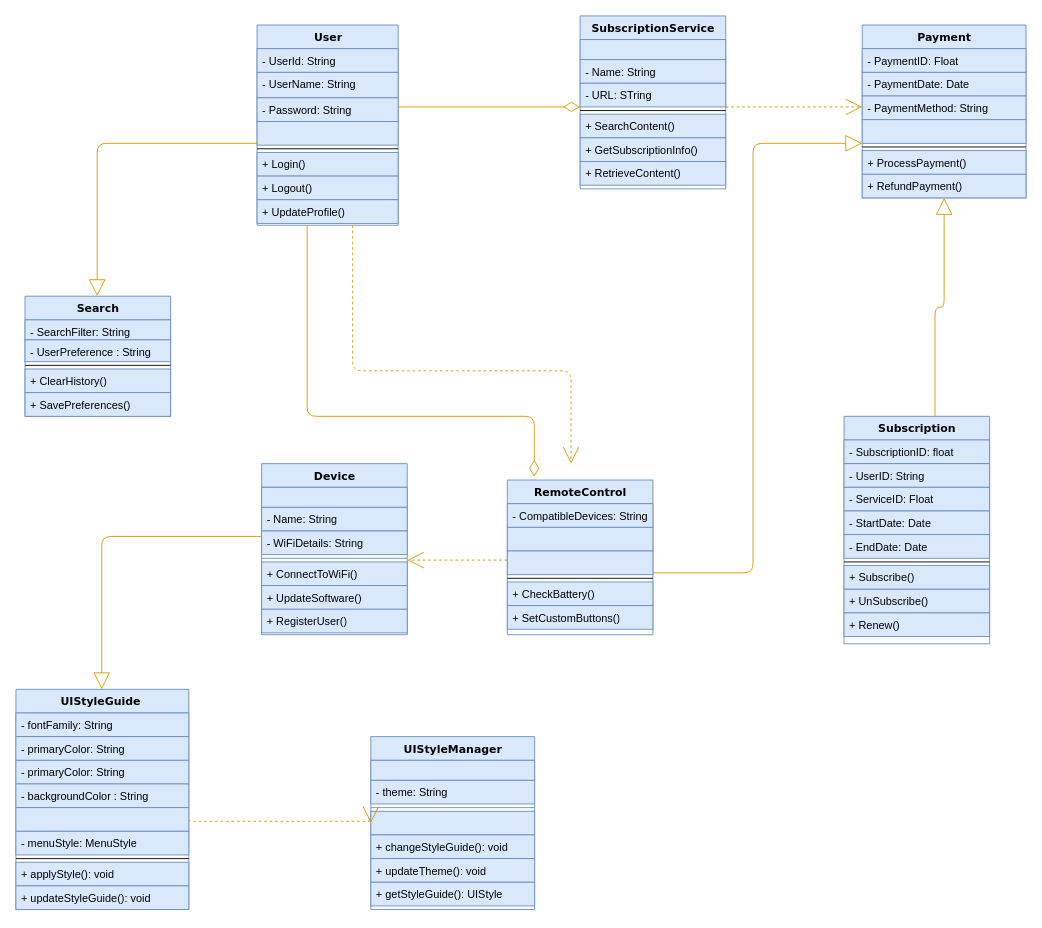
Image size: 1042x928. Some labels were removed from this diagram. Each missing label, with the centre of its shape:
"+ applyCurrentStyle(): void" goes at point (452, 822).
"- BatteryLevel: String" goes at point (579, 538).
"- buttonStyle : ButtonStyle" goes at point (102, 819).
"- currentStyleGuide: UIStyle" goes at point (452, 769).
"- DeviceID: String" goes at point (334, 496).
"- Email: String" goes at point (327, 133).
"- FirmwareVersion : Float" goes at point (579, 562).
"- ServiceID: String" goes at point (652, 49).
"- Status : String" goes at point (943, 131).
